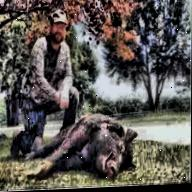boar: (47, 103, 149, 188)
